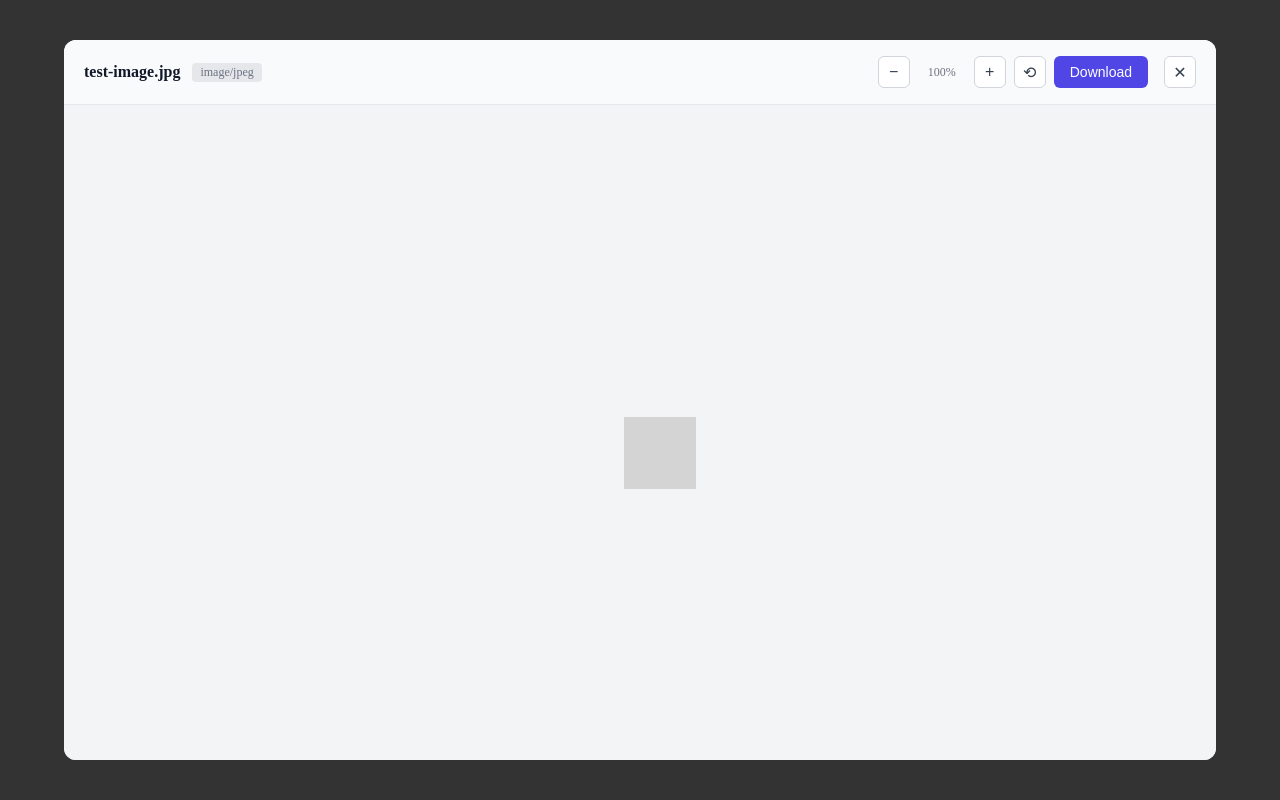
Test: SafetyDocumentViewer › image viewing › increases zoom on zoom in click
Click the button titled "Zoom in (+)".
click(990, 72)  # box x1=974 y1=56 x2=1006 y2=88
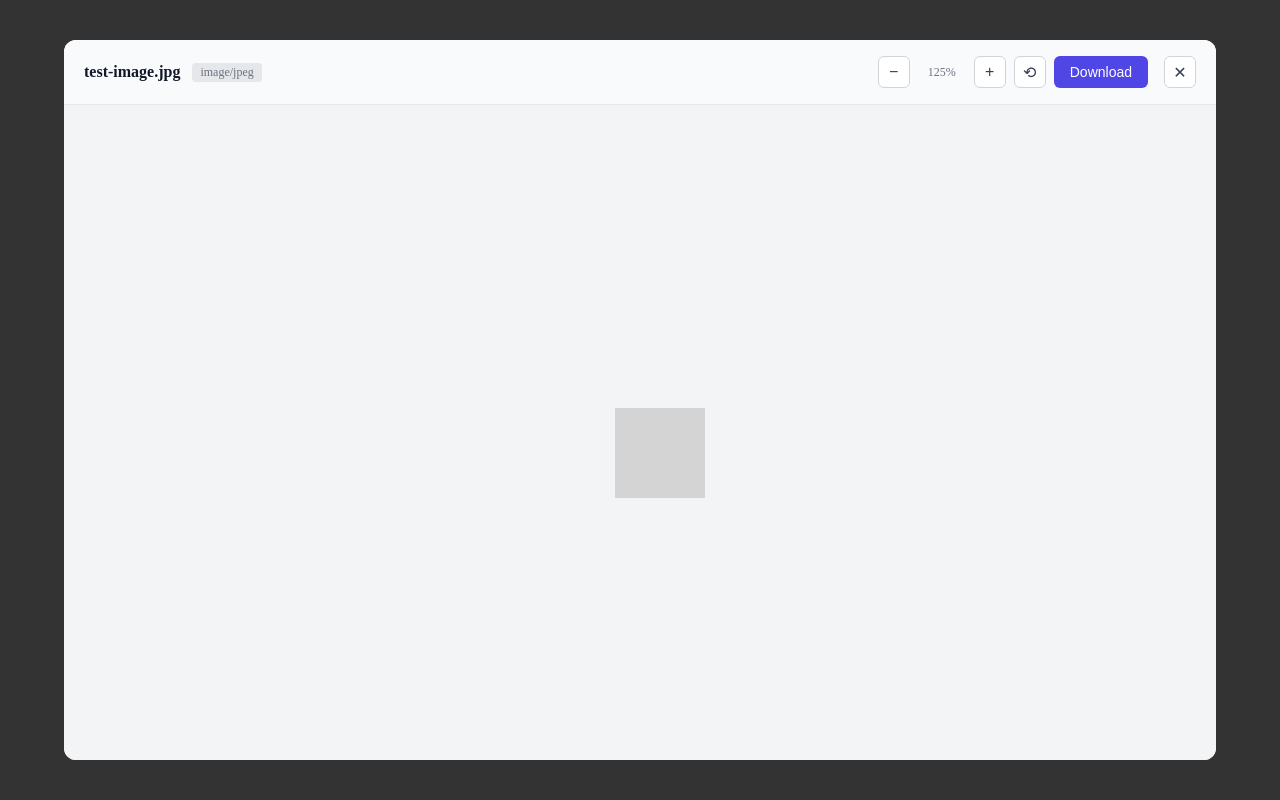
Check: the text "125%" is shown, box x1=928 y1=64 x2=956 y2=78
